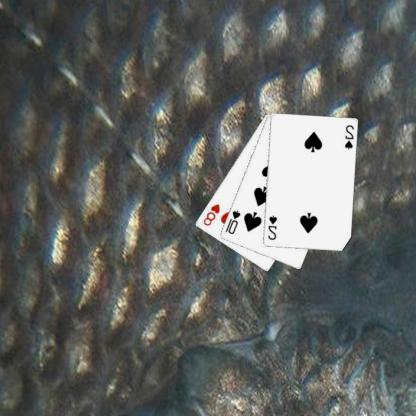10S: (224, 207, 243, 236)
2S: (344, 122, 357, 151), (267, 213, 280, 241)
8H: (202, 201, 223, 227)
